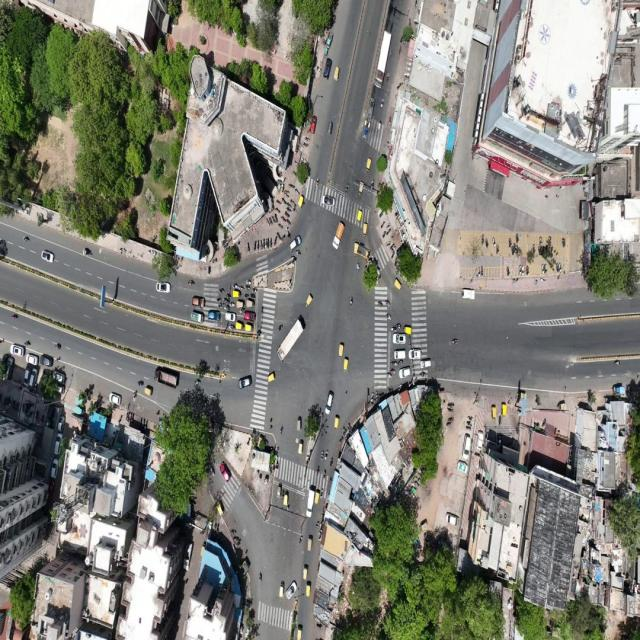3W: (266, 369, 278, 385), (333, 62, 341, 86), (326, 118, 335, 137), (304, 292, 314, 309), (306, 532, 314, 551), (364, 157, 373, 173), (278, 578, 284, 600), (393, 279, 403, 292), (215, 503, 225, 516), (295, 416, 304, 430), (298, 436, 304, 457), (276, 482, 282, 502), (362, 226, 370, 241), (303, 562, 309, 581), (305, 582, 311, 601), (356, 207, 363, 223), (343, 357, 349, 375), (353, 239, 359, 257), (358, 179, 364, 196), (404, 325, 414, 335), (298, 194, 305, 208), (144, 386, 152, 398), (491, 404, 496, 422), (283, 491, 289, 506), (246, 299, 256, 308), (244, 323, 254, 332), (338, 341, 343, 358), (236, 299, 245, 308), (334, 416, 340, 429), (502, 403, 507, 418), (315, 489, 319, 507), (233, 289, 240, 299), (235, 321, 242, 330)
Cars: (322, 388, 336, 416), (460, 433, 472, 461), (152, 280, 173, 296), (38, 249, 56, 267), (108, 388, 124, 408), (217, 462, 232, 483), (52, 432, 66, 454), (48, 458, 60, 483), (306, 483, 314, 520), (289, 235, 305, 253), (285, 580, 299, 600), (446, 507, 459, 528), (323, 55, 332, 85), (321, 192, 336, 209), (460, 288, 478, 302), (56, 412, 68, 432), (237, 374, 254, 388), (9, 342, 24, 356), (39, 353, 53, 368), (309, 115, 319, 135), (191, 295, 207, 307), (191, 313, 204, 326), (51, 369, 65, 381), (208, 309, 220, 322), (392, 334, 406, 345), (29, 369, 37, 388), (408, 349, 422, 359), (26, 355, 38, 366), (244, 311, 257, 321), (397, 368, 411, 377), (392, 350, 407, 358), (224, 312, 236, 322), (21, 369, 28, 386), (420, 360, 433, 368)
M2W: (21, 231, 33, 245), (613, 356, 623, 369), (560, 238, 569, 252), (548, 231, 555, 247), (449, 336, 459, 346), (356, 262, 362, 278), (279, 426, 285, 442), (274, 460, 280, 475), (11, 311, 20, 321), (134, 379, 145, 387), (348, 295, 354, 309), (344, 180, 350, 194), (313, 176, 320, 188), (256, 571, 262, 583), (54, 342, 63, 350), (329, 455, 334, 469), (188, 278, 195, 288), (378, 100, 385, 110), (24, 339, 32, 347), (278, 323, 285, 332), (505, 265, 510, 277), (525, 264, 530, 276), (322, 467, 327, 479), (492, 234, 496, 248), (247, 240, 251, 254), (389, 47, 393, 61), (386, 72, 391, 83), (320, 487, 324, 500), (378, 119, 382, 132), (286, 230, 291, 240), (448, 399, 455, 406), (385, 313, 392, 320), (498, 414, 502, 426), (480, 266, 484, 278), (518, 263, 521, 278), (485, 238, 489, 249), (532, 243, 536, 254), (316, 520, 320, 531), (316, 462, 319, 476), (218, 286, 225, 292), (215, 296, 222, 302), (231, 283, 238, 289), (544, 263, 548, 273), (378, 298, 382, 308), (386, 298, 390, 308), (274, 236, 278, 246), (481, 232, 484, 245), (325, 449, 328, 462), (508, 238, 512, 247), (559, 260, 562, 272), (320, 450, 323, 462), (392, 361, 398, 367), (398, 360, 404, 366), (243, 292, 249, 298), (250, 292, 256, 298), (228, 324, 234, 330), (272, 215, 276, 224), (276, 206, 280, 215), (466, 415, 473, 420), (284, 193, 289, 200), (296, 249, 301, 256), (477, 266, 480, 277), (496, 244, 499, 255), (556, 262, 559, 273), (539, 234, 542, 245), (516, 234, 520, 242), (254, 238, 256, 254), (287, 218, 291, 226), (286, 206, 290, 214), (380, 220, 384, 228), (448, 416, 454, 421), (466, 426, 472, 431), (396, 323, 402, 328), (390, 369, 396, 374), (226, 293, 232, 298), (246, 279, 252, 284), (252, 287, 258, 292), (266, 218, 269, 228), (289, 182, 294, 188), (386, 242, 391, 248), (386, 223, 391, 229), (447, 408, 454, 412), (223, 298, 230, 302), (278, 223, 282, 230), (281, 215, 285, 222), (291, 199, 295, 206), (292, 255, 296, 262), (381, 233, 385, 240), (391, 327, 396, 332), (230, 302, 235, 307), (245, 285, 250, 290), (446, 422, 452, 426), (466, 420, 472, 424), (219, 303, 223, 309), (224, 306, 230, 310), (238, 285, 244, 289), (257, 239, 259, 251), (260, 238, 262, 250), (262, 238, 264, 250), (268, 237, 270, 249), (270, 237, 272, 249), (277, 199, 281, 205), (295, 189, 299, 195), (391, 252, 394, 260), (542, 264, 544, 274), (282, 489, 284, 499), (293, 170, 296, 175), (265, 238, 266, 250)
Truck: (276, 312, 317, 368), (372, 22, 395, 92), (326, 220, 348, 254), (152, 368, 181, 388)
